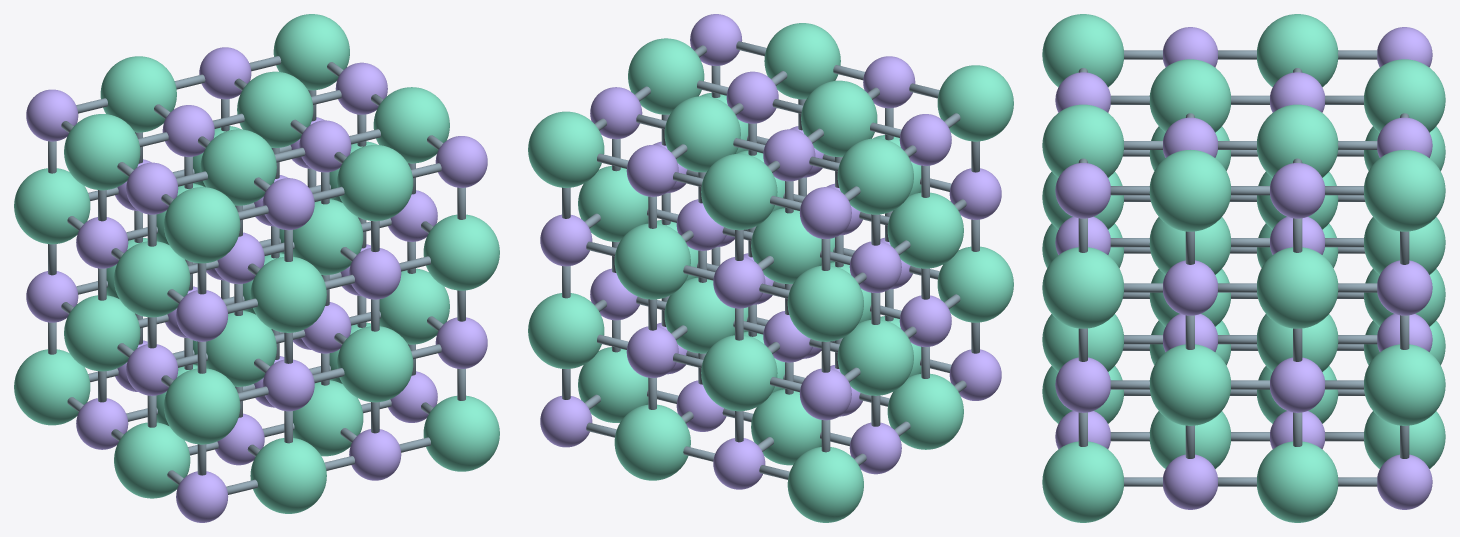
Rendered from nacl.glb.
The picture shows the model from 3 angles, left to right: view 1: azimuth 30°, elevation 25°; view 2: azimuth 150°, elevation 25°; view 3: azimuth 270°, elevation 25°; orthographic projection. The views are drawn at different scales.
Parts seen in each view (by area): view 1: Cl_003, Cl_001, Cl_203, Cl_302, Cl_300, Cl_201, Cl_100, Cl_102, Cl_023, Cl_010, Cl_012, Cl_021 (+34 smaller); view 2: Cl_030, Cl_032, Cl_333, Cl_133, Cl_131, Cl_230, Cl_232, Cl_331, Cl_003, Cl_023, Cl_001, Cl_012 (+34 smaller); view 3: Cl_333, Cl_313, Cl_302, Cl_300, Cl_331, Cl_322, Cl_311, Cl_320, Cl_223, Cl_133, Cl_203, Cl_003 (+40 smaller).
Boxes of the visible parts, left/top/right/bottom form: Cl_003: left=164, top=187, right=240, bottom=263; Cl_001: left=164, top=368, right=240, bottom=444; Cl_203: left=337, top=145, right=413, bottom=221; Cl_302: left=423, top=214, right=499, bottom=290; Cl_300: left=423, top=395, right=499, bottom=471; Cl_201: left=337, top=326, right=413, bottom=402; Cl_100: left=250, top=438, right=326, bottom=513; Cl_102: left=250, top=257, right=326, bottom=332; Cl_023: left=64, top=114, right=140, bottom=190; Cl_010: left=114, top=422, right=190, bottom=498; Cl_012: left=114, top=241, right=190, bottom=317; Cl_021: left=64, top=295, right=140, bottom=371; Cl_030: left=787, top=447, right=863, bottom=522; Cl_032: left=787, top=265, right=863, bottom=341; Cl_333: left=528, top=111, right=604, bottom=187; Cl_133: left=701, top=153, right=777, bottom=230; Cl_131: left=701, top=335, right=777, bottom=411; Cl_230: left=614, top=404, right=690, bottom=480; Cl_232: left=614, top=223, right=690, bottom=299; Cl_331: left=528, top=293, right=604, bottom=368; Cl_003: left=937, top=65, right=1013, bottom=141; Cl_023: left=837, top=138, right=913, bottom=214; Cl_001: left=937, top=246, right=1013, bottom=322; Cl_012: left=887, top=192, right=963, bottom=268; Cl_333: left=1364, top=149, right=1445, bottom=231; Cl_313: left=1149, top=149, right=1230, bottom=231; Cl_302: left=1042, top=247, right=1123, bottom=328; Cl_300: left=1042, top=441, right=1123, bottom=522; Cl_331: left=1364, top=344, right=1445, bottom=425; Cl_322: left=1257, top=247, right=1338, bottom=328; Cl_311: left=1149, top=344, right=1230, bottom=425; Cl_320: left=1257, top=441, right=1338, bottom=522; Cl_223: left=1257, top=104, right=1338, bottom=177; Cl_133: left=1364, top=59, right=1445, bottom=132; Cl_203: left=1042, top=104, right=1123, bottom=177; Cl_003: left=1042, top=14, right=1123, bottom=87.
Size of the model in its own units: 4.33 by 4.33 by 4.33.
